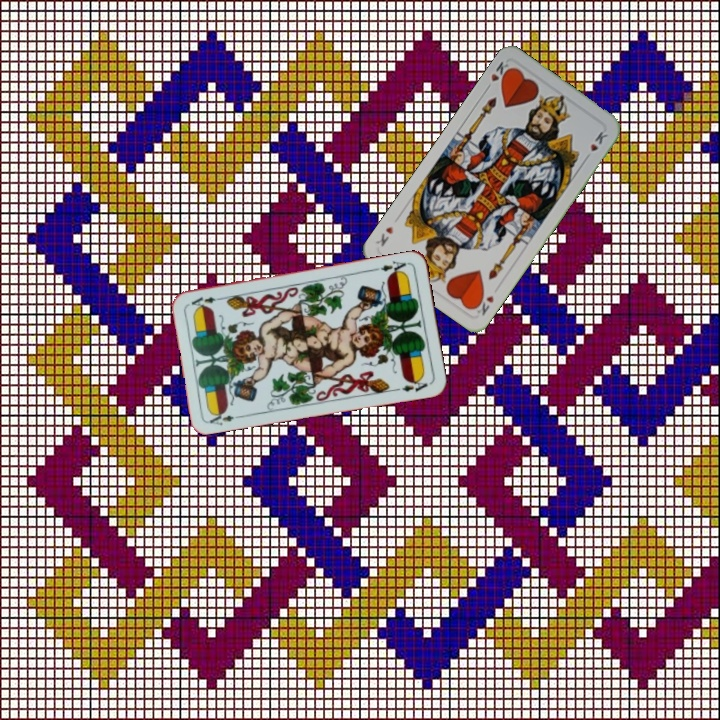EA: (205, 407, 245, 428), (371, 257, 411, 277)
HK: (481, 57, 514, 93), (470, 290, 496, 318)
